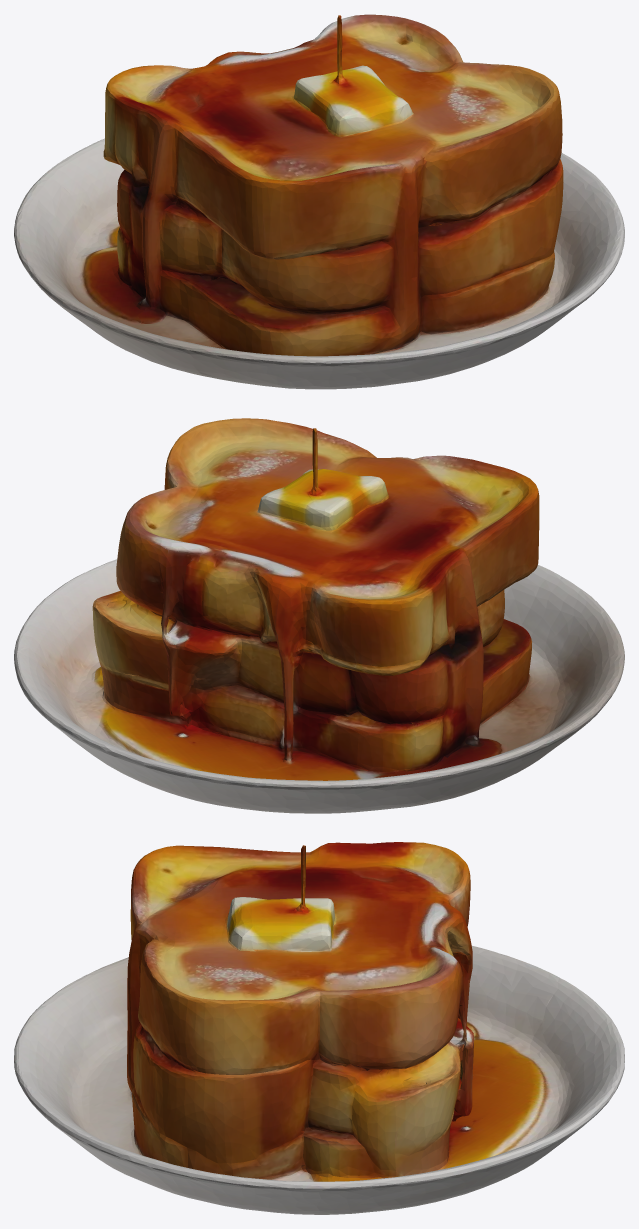
The model's file is p_toast.glb.
3 renders of one model, top to bottom at view 1: azimuth 30°, elevation 25°; view 2: azimuth 150°, elevation 25°; view 3: azimuth 270°, elevation 25°, orthographic.
Visible parts, largest first — view 1: geometry_0; view 2: geometry_0; view 3: geometry_0.
Boxes of the visible parts, <box> form: geometry_0: <box>14,14,624,389</box>; geometry_0: <box>14,418,624,813</box>; geometry_0: <box>14,842,624,1214</box>.
Size of the model in its own units: 0.9988 by 0.5083 by 1.
1 material, 1 textured.
